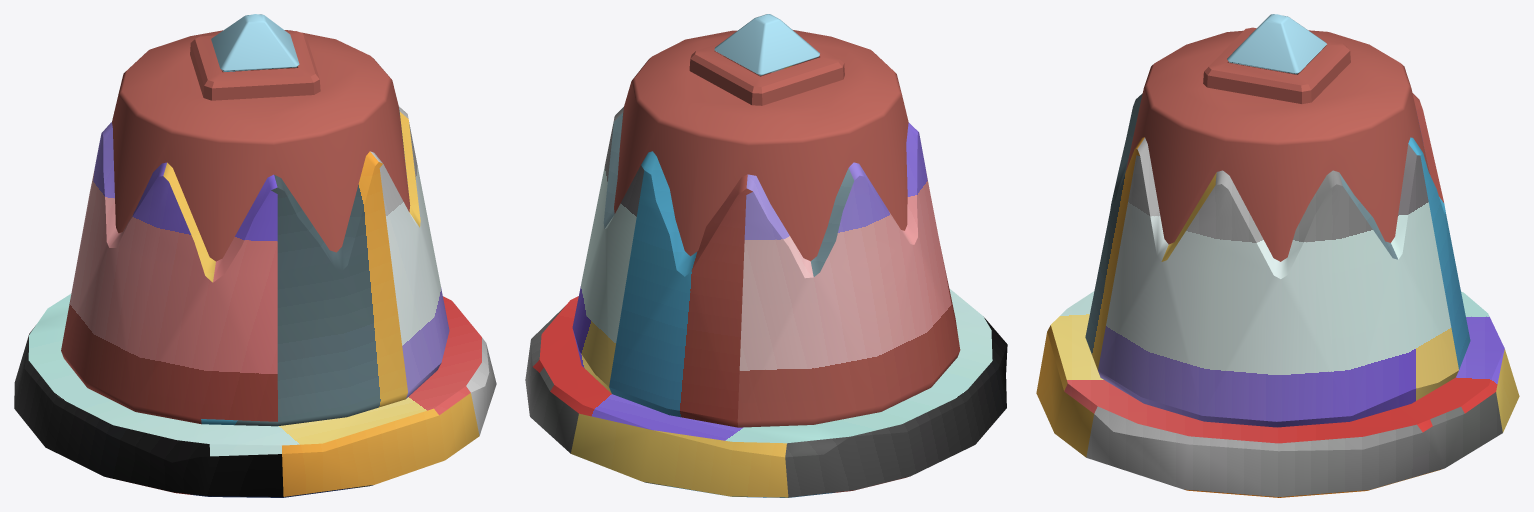
The model's file is Prop_AP30ChallengeBallDispenser.glb.
3 views of the same model, side by side, from view 1: azimuth 30°, elevation 25°; view 2: azimuth 150°, elevation 25°; view 3: azimuth 270°, elevation 25° (orthographic).
Parts seen in each view (by area): view 1: Prop_AP30ChallengeBallDispenser; view 2: Prop_AP30ChallengeBallDispenser; view 3: Prop_AP30ChallengeBallDispenser.
Part boxes in pixels (x1,y1,x2,y2): Prop_AP30ChallengeBallDispenser: (14, 14, 496, 497); Prop_AP30ChallengeBallDispenser: (525, 14, 1007, 497); Prop_AP30ChallengeBallDispenser: (1036, 14, 1519, 497).
Size of the model in its own units: 1.19 by 1.05 by 1.19.
1 material, 1 textured.
